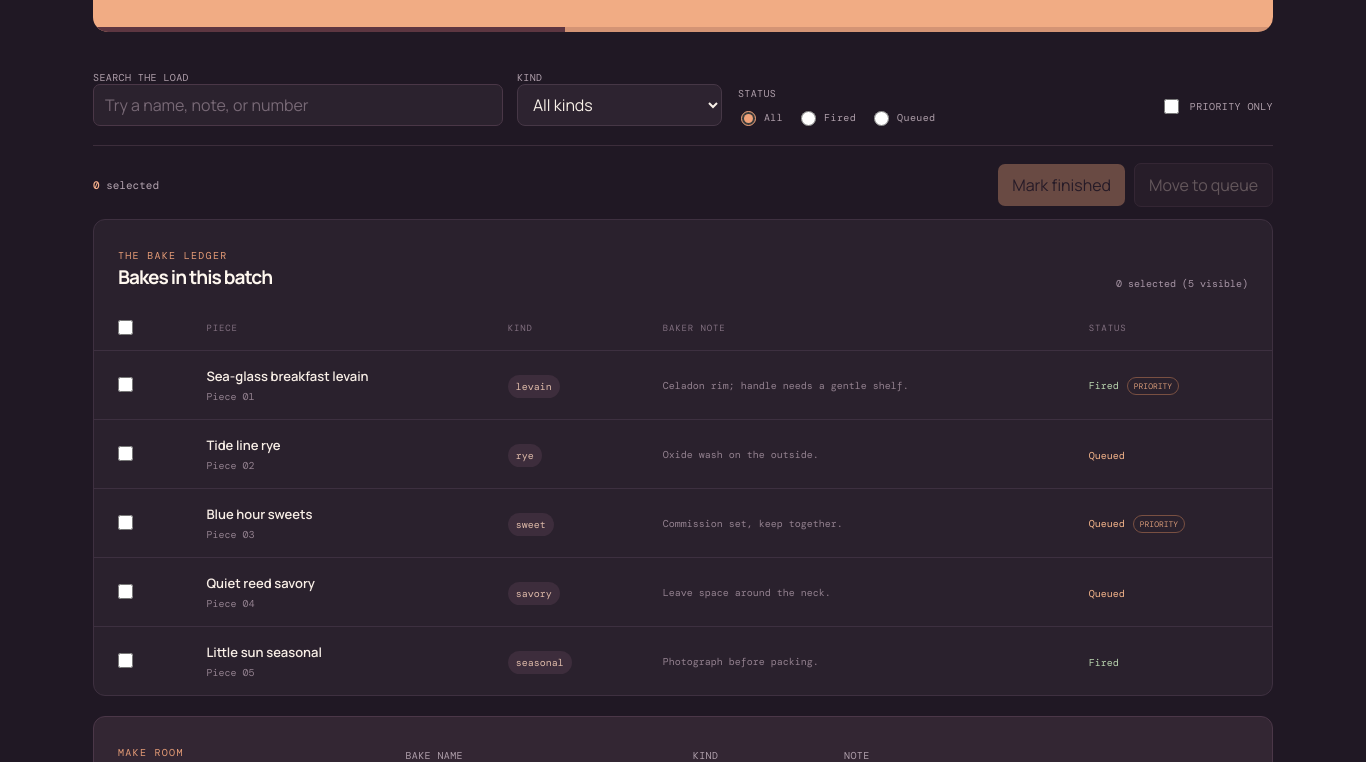
CrumbLedger app › keeps selection when a status filter hides it
(page scrolled)
Click the checkbox named "Select Sea-glass breakfast levain": x=126, y=384 [118, 377, 133, 392]
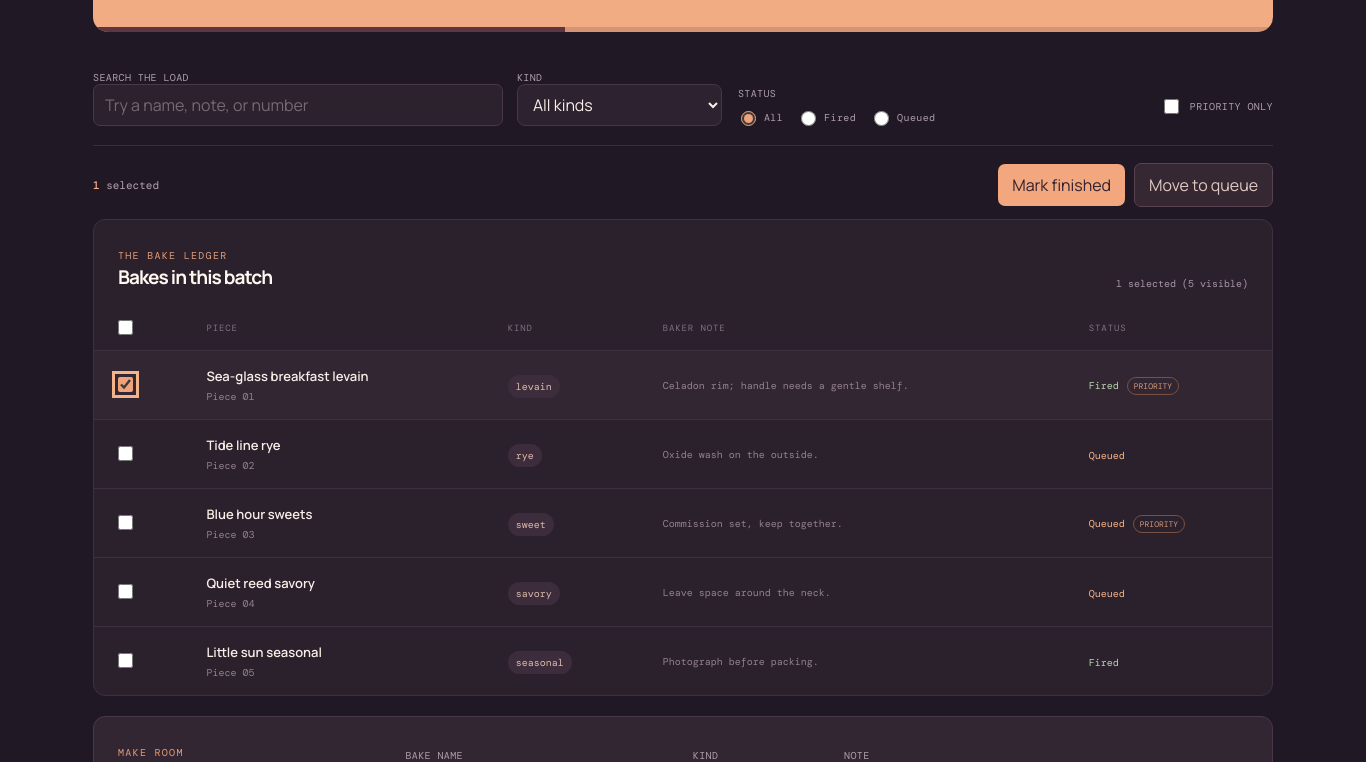
Click the radio button labelled "Queued": x=882, y=118 [874, 111, 889, 126]
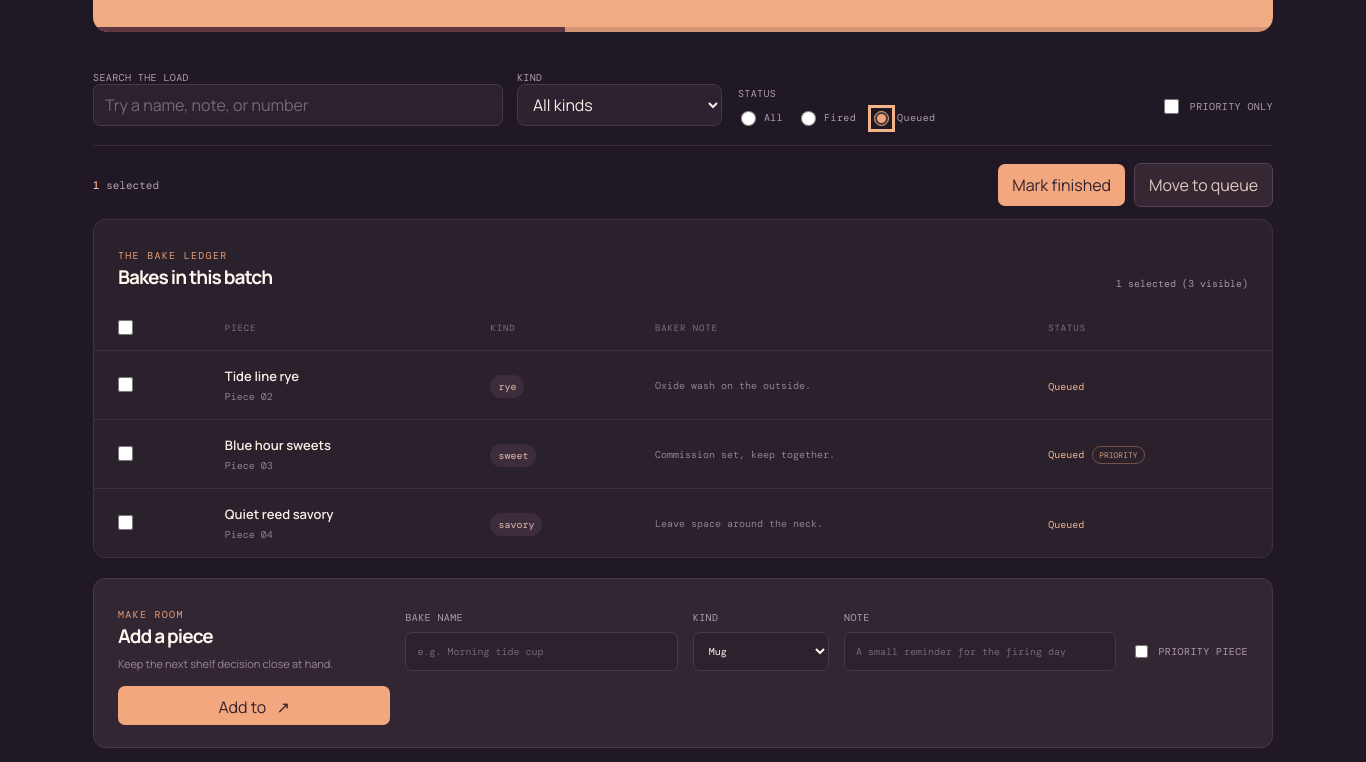
Check: the text "1 selected (3 visible)" is shown, box [1116, 277, 1248, 290]
Click the radio button labelled "All": x=748, y=118 [741, 111, 756, 126]
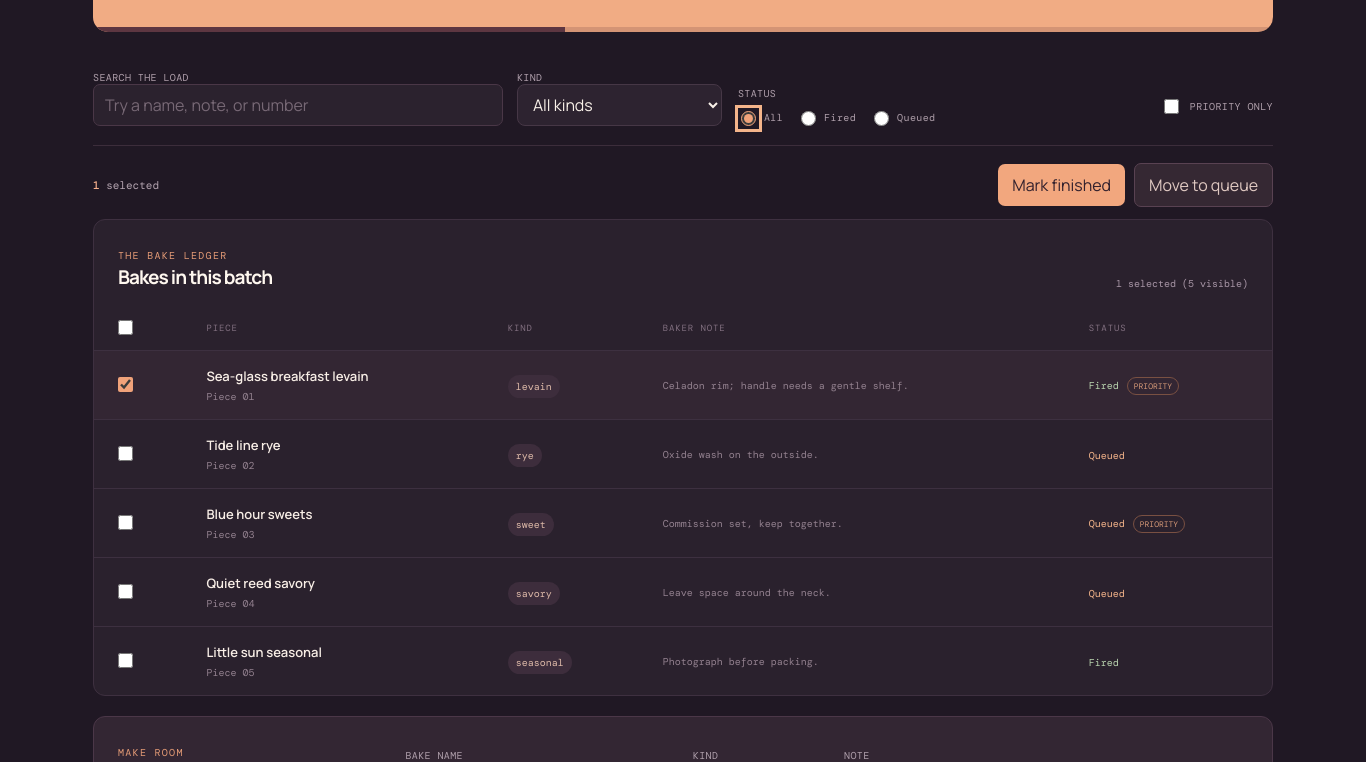
Check: the checkbox named "Select Sea-glass breakfast levain" is checked, box [118, 377, 133, 392]
